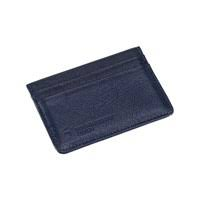monedero: (26, 46, 175, 154)
